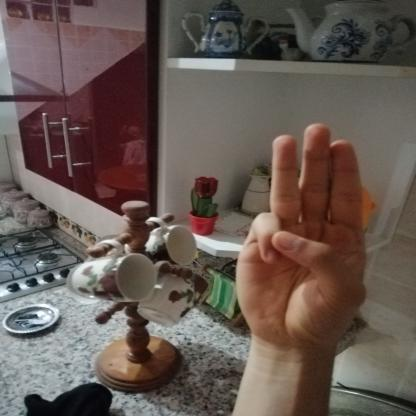THA: (219, 112, 382, 353)
